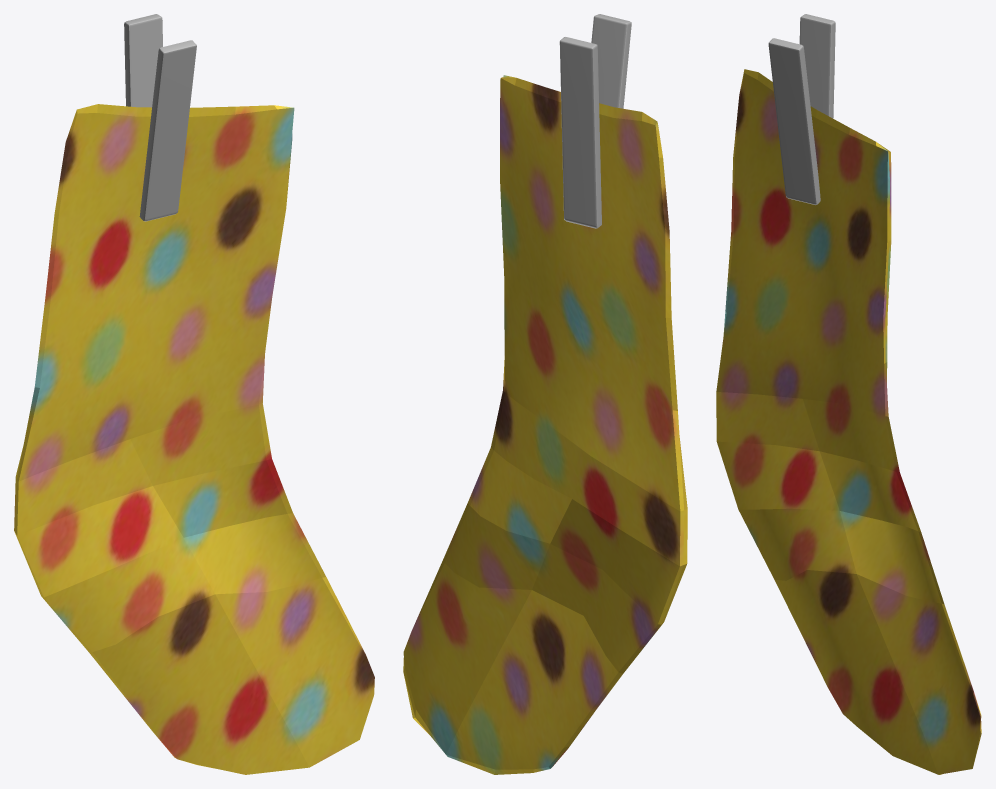
The model's file is sock-hung.glb.
3 views of the same model, side by side, from view 1: azimuth 30°, elevation 25°; view 2: azimuth 150°, elevation 25°; view 3: azimuth 330°, elevation 25° (orthographic). The views are drawn at different scales.
Parts seen in each view (by area): view 1: polySurface42; view 2: polySurface42; view 3: polySurface42.
Boxes of the visible parts, x1,y1,x2,y2 form: polySurface42: (14,14,374,774); polySurface42: (403,14,687,774); polySurface42: (716,14,981,774).
Size of the model in its own units: 0.4166 by 0.9548 by 0.1141.
Materials: 2 (1 with a texture image).
